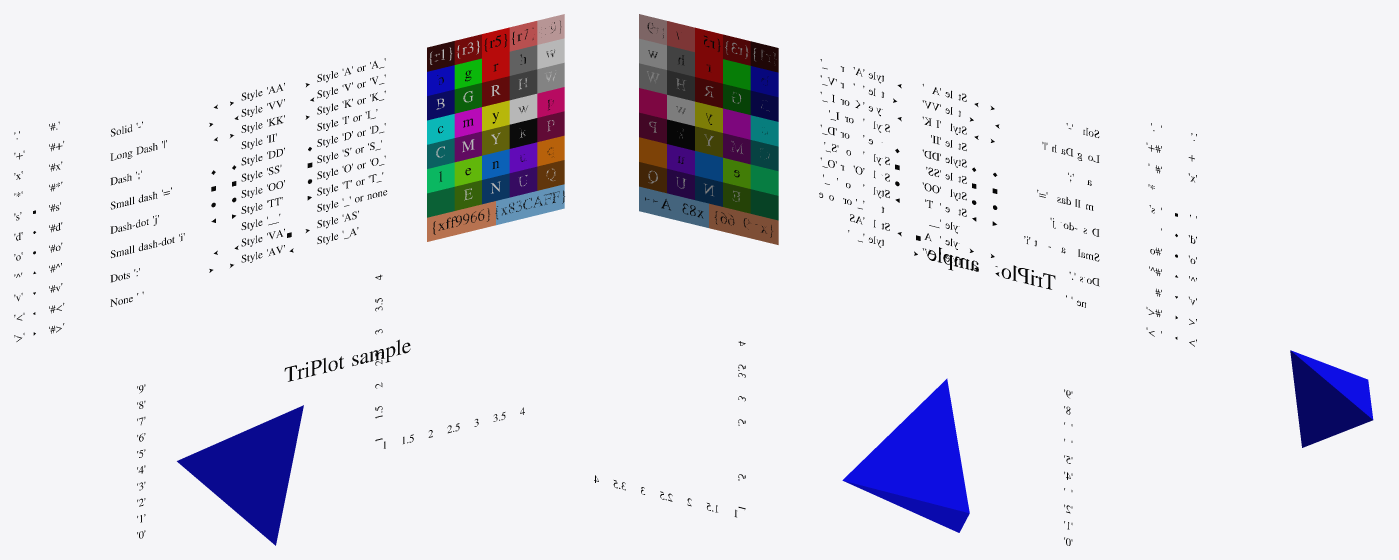
Rendered from fexport.obj.
3 renders of one model, left to right at view 1: azimuth 30°, elevation 25°; view 2: azimuth 150°, elevation 25°; view 3: azimuth 270°, elevation 25°, orthographic. The views are drawn at different scales.
Visible parts, largest first — view 1: TriPlot_1, Face_37, Face_36, Face_4, Face_9, Face_24, Face_19, Face_14, Face_29, Face_34, Title_1, Face_10 (+27 smaller); view 2: TriPlot_1, Face_36, Face_37, Face_16, Face_1, Face_6, Face_26, Face_11, Face_21, Face_31, Face_10, Face_15 (+15 smaller); view 3: TriPlot_1.
Boxes of the visible parts, left/top/right/bottom form: TriPlot_1: left=177, top=405, right=303, bottom=545; Face_37: left=496, top=184, right=564, bottom=225; Face_36: left=427, top=201, right=495, bottom=241; Face_4: left=509, top=166, right=537, bottom=197; Face_9: left=509, top=142, right=537, bottom=172; Face_24: left=509, top=69, right=537, bottom=100; Face_19: left=509, top=94, right=537, bottom=124; Face_14: left=509, top=118, right=537, bottom=148; Face_29: left=509, top=45, right=537, bottom=75; Face_34: left=509, top=21, right=537, bottom=51; Title_1: left=284, top=339, right=410, bottom=381; Face_10: left=537, top=135, right=564, bottom=166; TriPlot_1: left=842, top=378, right=969, bottom=532; Face_36: left=709, top=203, right=778, bottom=244; Face_37: left=639, top=186, right=708, bottom=227; Face_16: left=750, top=115, right=778, bottom=146; Face_1: left=750, top=189, right=778, bottom=220; Face_6: left=750, top=164, right=778, bottom=195; Face_26: left=750, top=66, right=778, bottom=97; Face_11: left=750, top=140, right=778, bottom=171; Face_21: left=750, top=90, right=778, bottom=121; Face_31: left=750, top=41, right=778, bottom=72; Face_10: left=639, top=137, right=666, bottom=168; Face_15: left=639, top=112, right=666, bottom=143; TriPlot_1: left=1290, top=350, right=1373, bottom=447.
Size of what is drawn, in the model's own units: 829 by 665 by 279.
